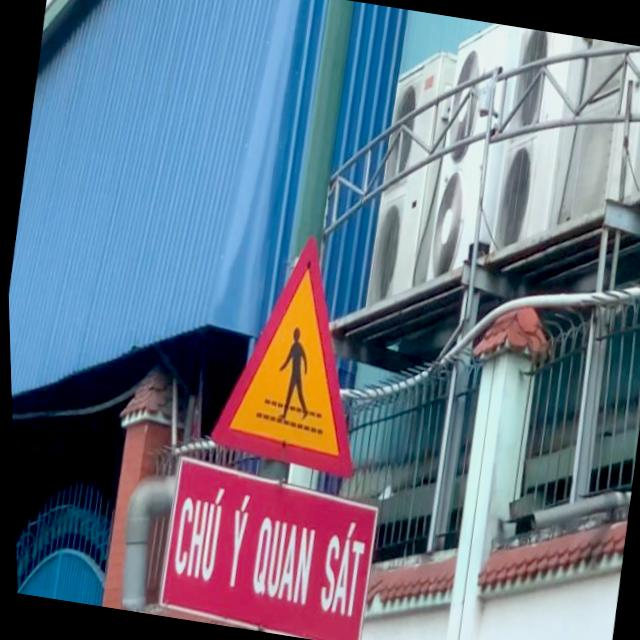Nguoi di bo cat ngang: (198, 222, 387, 481)
